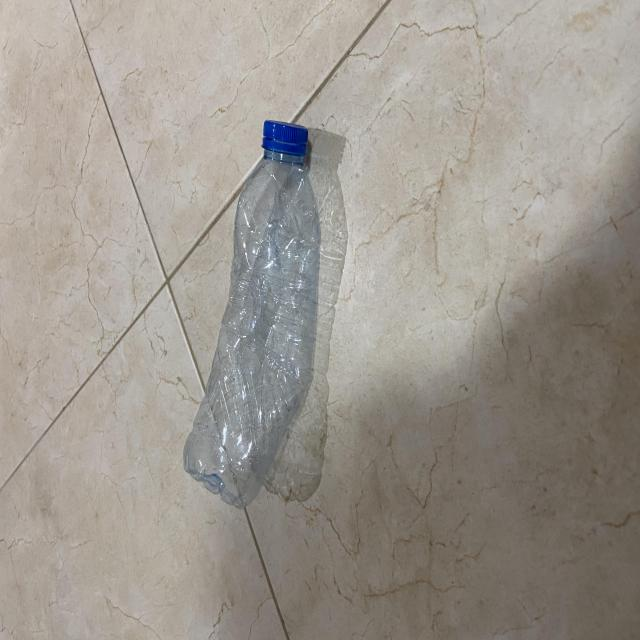bottle: (186, 113, 310, 527)
